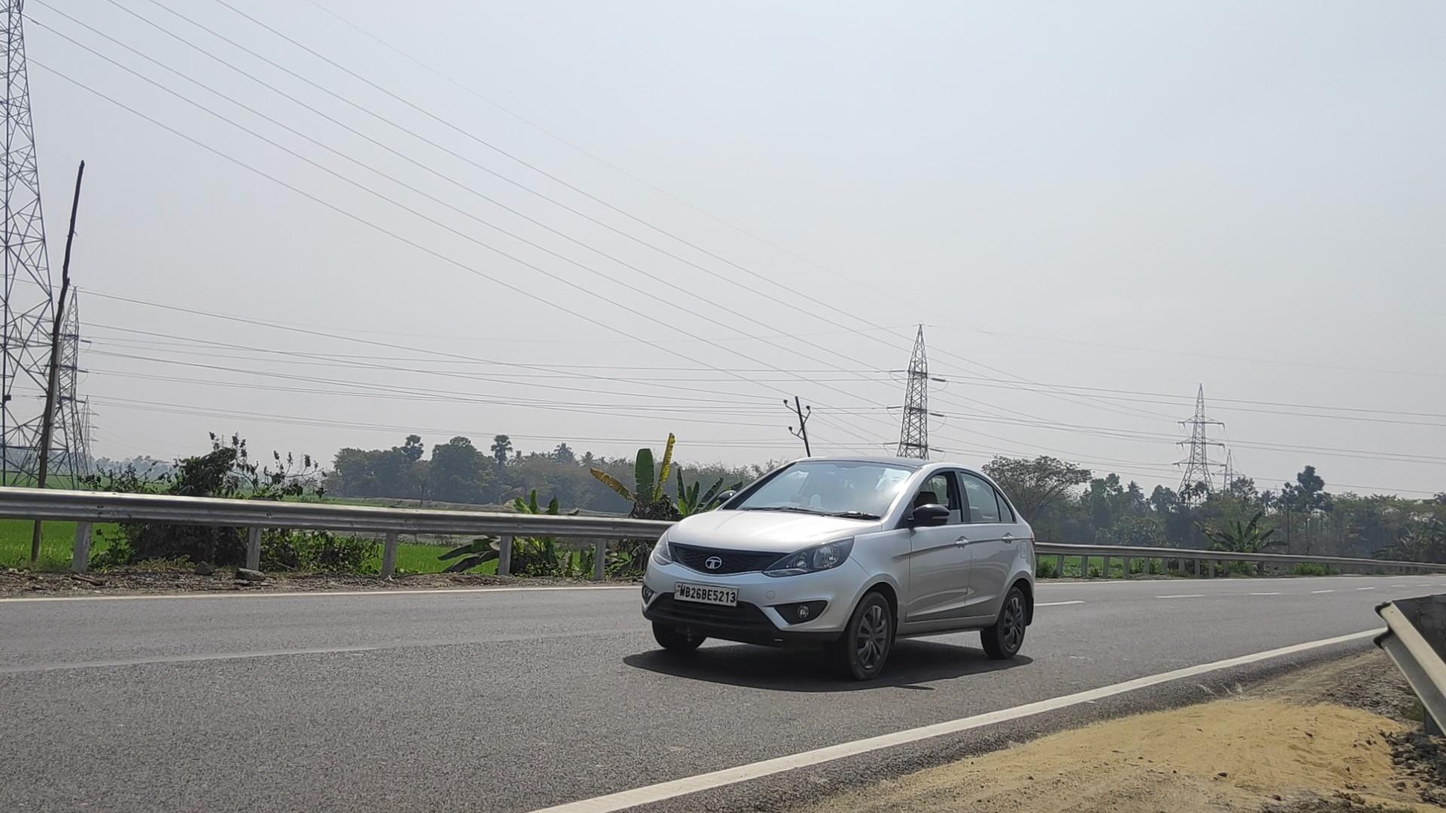car: (641, 455, 1036, 681)
